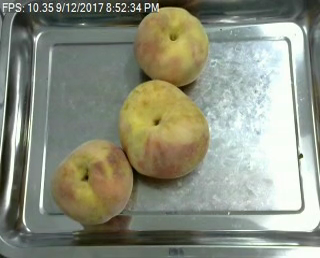Peach: (119, 78, 208, 179), (51, 138, 133, 226), (133, 6, 209, 85)
